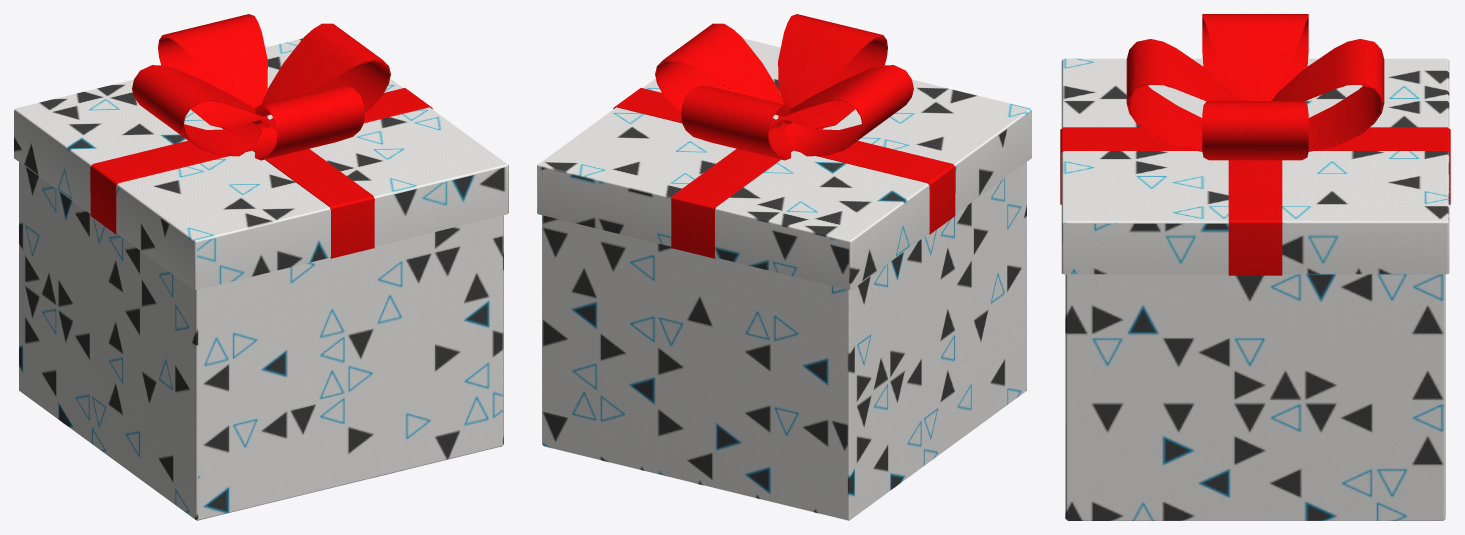
3 renders of one model, left to right at view 1: azimuth 30°, elevation 25°; view 2: azimuth 150°, elevation 25°; view 3: azimuth 270°, elevation 25°, orthographic. The views are drawn at different scales.
Visible parts, largest first — view 1: SK_GiftBox.002, SK_GiftBox.001, SK_GiftBox; view 2: SK_GiftBox.002, SK_GiftBox.001, SK_GiftBox; view 3: SK_GiftBox.002, SK_GiftBox.001, SK_GiftBox.
Part boxes in pixels (box(x1,y1,x2,y2)): SK_GiftBox.002: box(19, 162, 503, 520); SK_GiftBox.001: box(14, 38, 508, 289); SK_GiftBox: box(90, 14, 432, 258); SK_GiftBox.002: box(542, 162, 1026, 520); SK_GiftBox.001: box(537, 38, 1031, 289); SK_GiftBox: box(613, 14, 955, 258); SK_GiftBox.002: box(1065, 274, 1445, 520); SK_GiftBox.001: box(1061, 58, 1449, 274); SK_GiftBox: box(1060, 14, 1450, 275).
Size of what is drawn, in the model's own units: 1.88 by 2.03 by 1.88.
3 materials, 3 textured.
